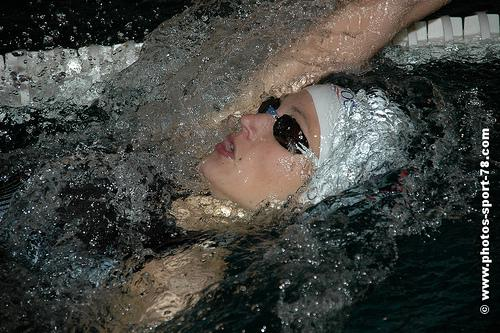human: (87, 0, 440, 332)
